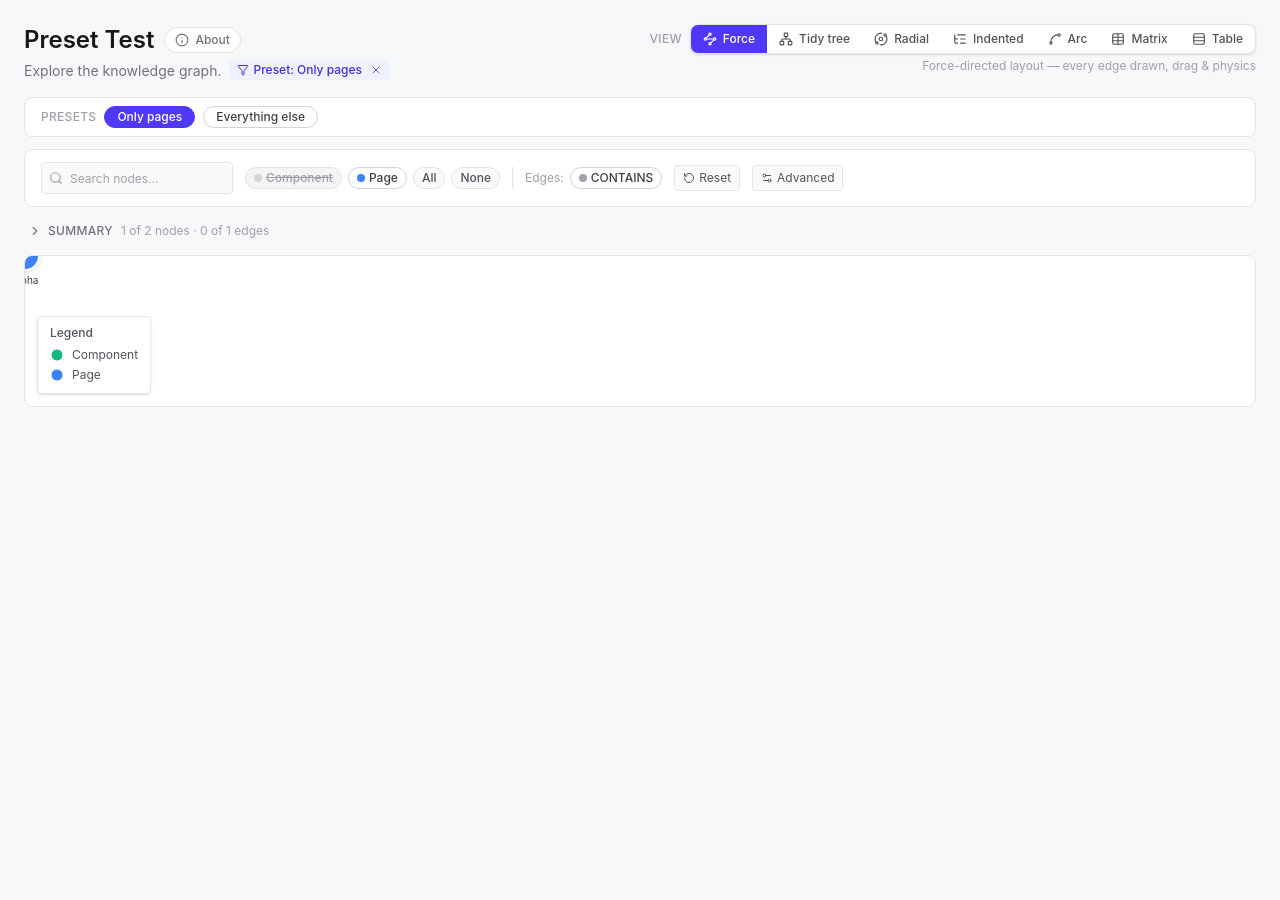
Viewer about panel › opens from the header and explains the graph and its presets
Click the button "About" at (203, 40), box [164,27,241,53]
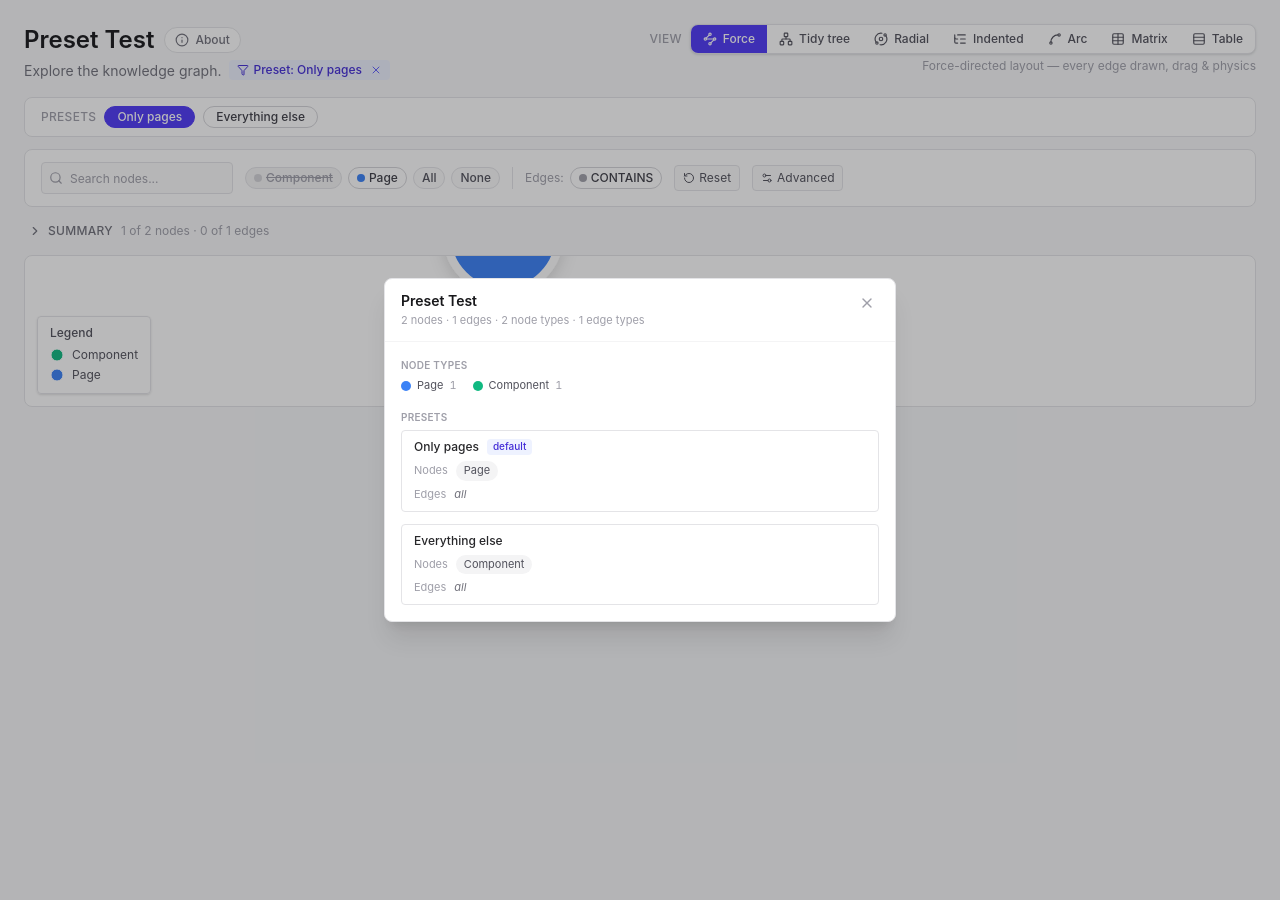
Expected: the heading "Preset Test" is shown, [401,292,477,309]
Expected: the element with test id "about-preset-Only pages" is shown, [401,430,879,512]
Expected: the element with test id "about-preset-Everything else" is shown, [401,524,879,605]
